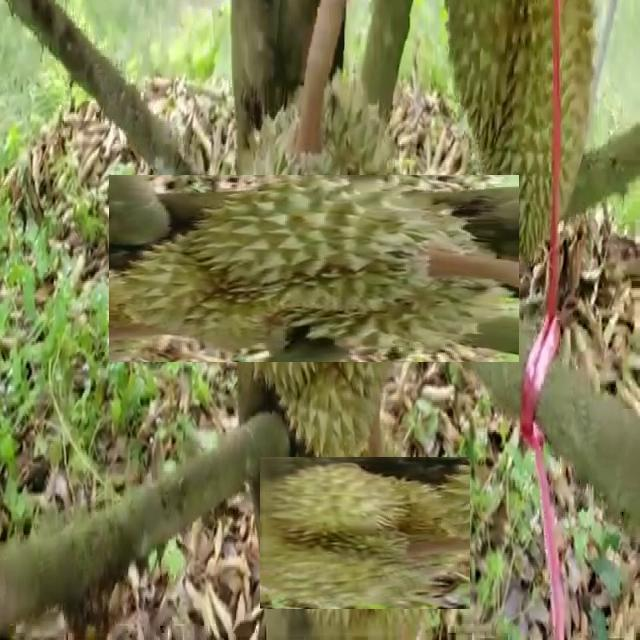durian: (164, 119, 463, 417), (442, 0, 601, 267), (274, 442, 455, 624)
